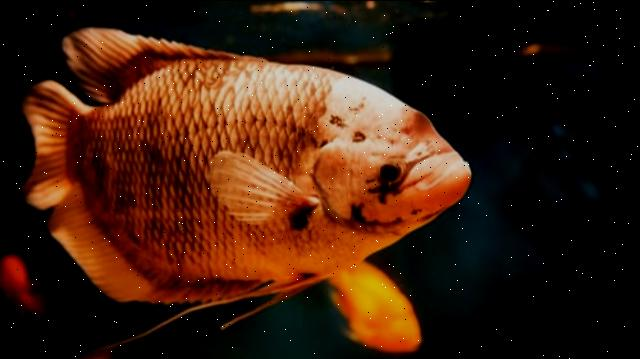Mulut: (376, 125, 500, 217)
Sirip Anal: (44, 175, 266, 313)
Sirip Dada: (194, 143, 330, 239)
Sirip Ekor: (5, 71, 94, 221)
Sirip Perut: (216, 262, 354, 316)
Sirip Punggung: (59, 18, 275, 114)
